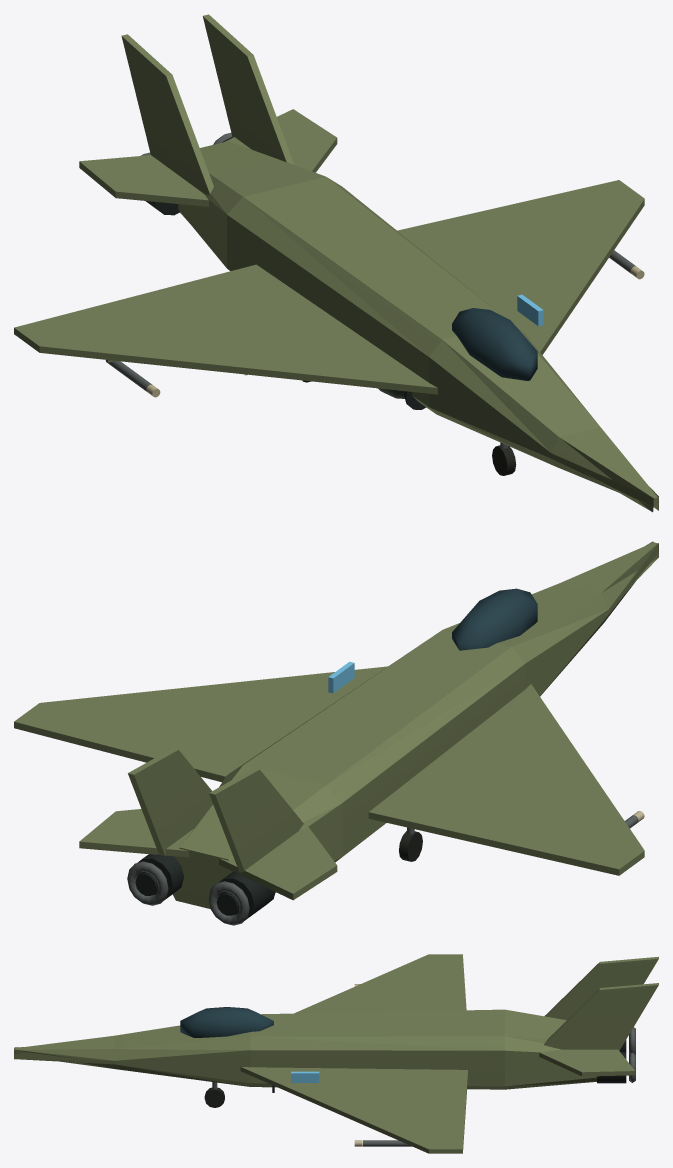
The model's file is bomber-lod.glb.
3 views of the same model, one above another, from view 1: azimuth 30°, elevation 25°; view 2: azimuth 150°, elevation 25°; view 3: azimuth 270°, elevation 25° (orthographic). The views are drawn at different scales.
Visible parts, largest first — view 1: armor, equipment; view 2: armor, equipment (×2); view 3: armor, equipment (×2), marking.
Part boxes in pixels (x1,y1,x2,y2): armor: [14, 14, 658, 512]; equipment: [105, 133, 644, 409]; armor: [14, 541, 658, 908]; equipment (×2): [127, 588, 644, 925]; armor: [14, 954, 658, 1153]; equipment (×2): [180, 984, 635, 1146]; marking: [291, 1071, 319, 1082].
Bounding box in the file's own units: 8.2 × 2.64 × 11.45.
